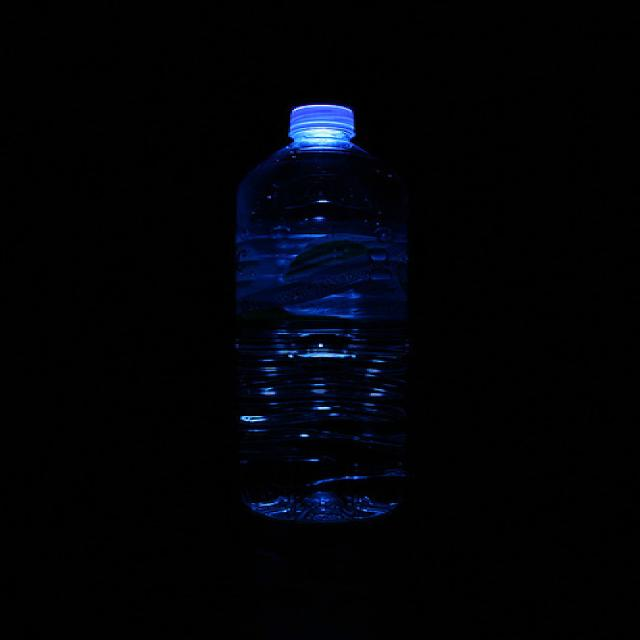Bottle: (212, 94, 414, 533)
